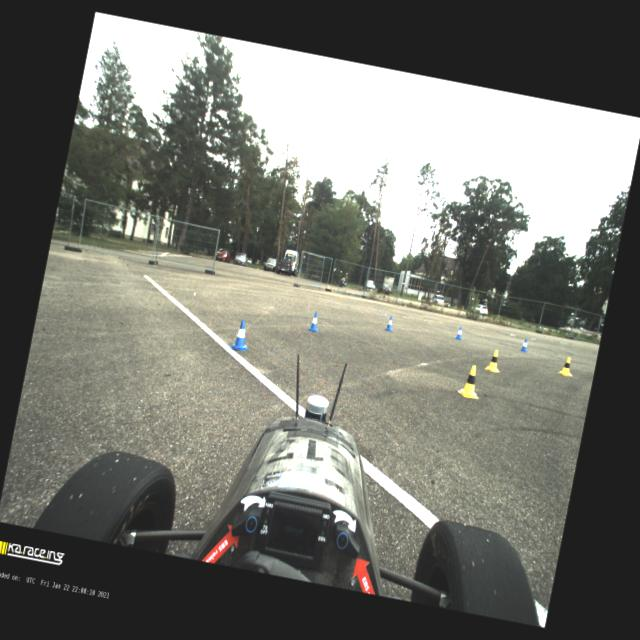blue_cone: (230, 319, 253, 352), (308, 311, 322, 333), (384, 316, 396, 332), (454, 326, 464, 341), (520, 338, 530, 352)
yellow_cone: (457, 364, 485, 400), (484, 348, 504, 372), (558, 356, 576, 377)
